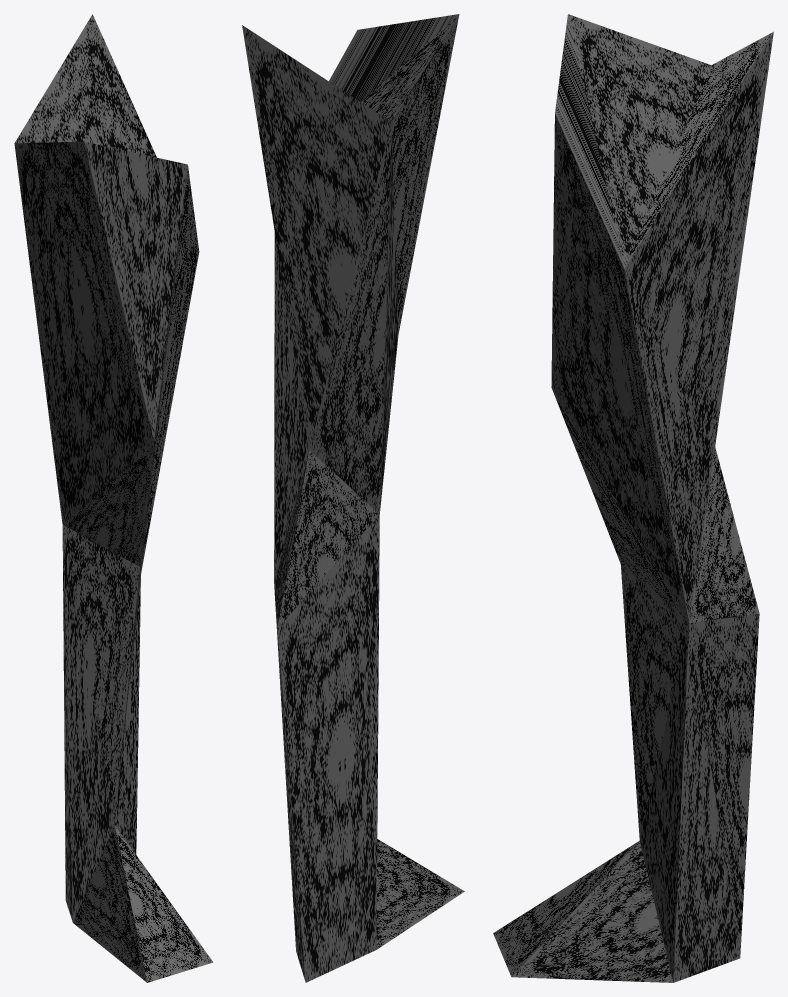
The model's file is CitizenOneLeftLeg.fbx.
3 views of the same model, side by side, from view 1: azimuth 30°, elevation 25°; view 2: azimuth 150°, elevation 25°; view 3: azimuth 270°, elevation 25° (orthographic). The views are drawn at different scales.
Visible parts, largest first — view 1: CitzenOneLeftLeg; view 2: CitzenOneLeftLeg; view 3: CitzenOneLeftLeg.
Boxes of the visible parts, <box> form: CitzenOneLeftLeg: <box>14,14,213,982</box>; CitzenOneLeftLeg: <box>242,14,464,982</box>; CitzenOneLeftLeg: <box>493,14,773,982</box>.
Bounding box in the file's own units: 166 × 947 × 253.
